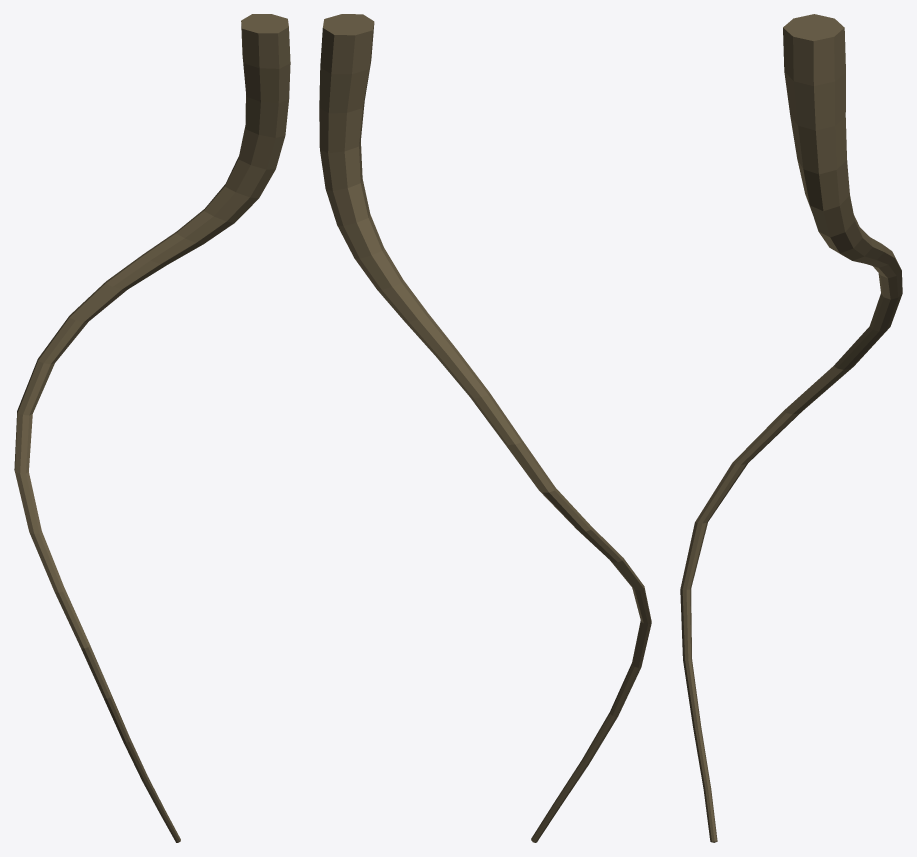
3 views of the same model, side by side, from view 1: azimuth 30°, elevation 25°; view 2: azimuth 150°, elevation 25°; view 3: azimuth 270°, elevation 25° (orthographic). The views are drawn at different scales.
Visible parts, largest first — view 1: Root.2.8; view 2: Root.2.8; view 3: Root.2.8.
Part boxes in pixels (<box>): Root.2.8: <box>14,14,290,842</box>; Root.2.8: <box>319,14,651,842</box>; Root.2.8: <box>680,14,902,842</box>.
Bounding box in the file's own units: 155 × 417 × 94.44.
